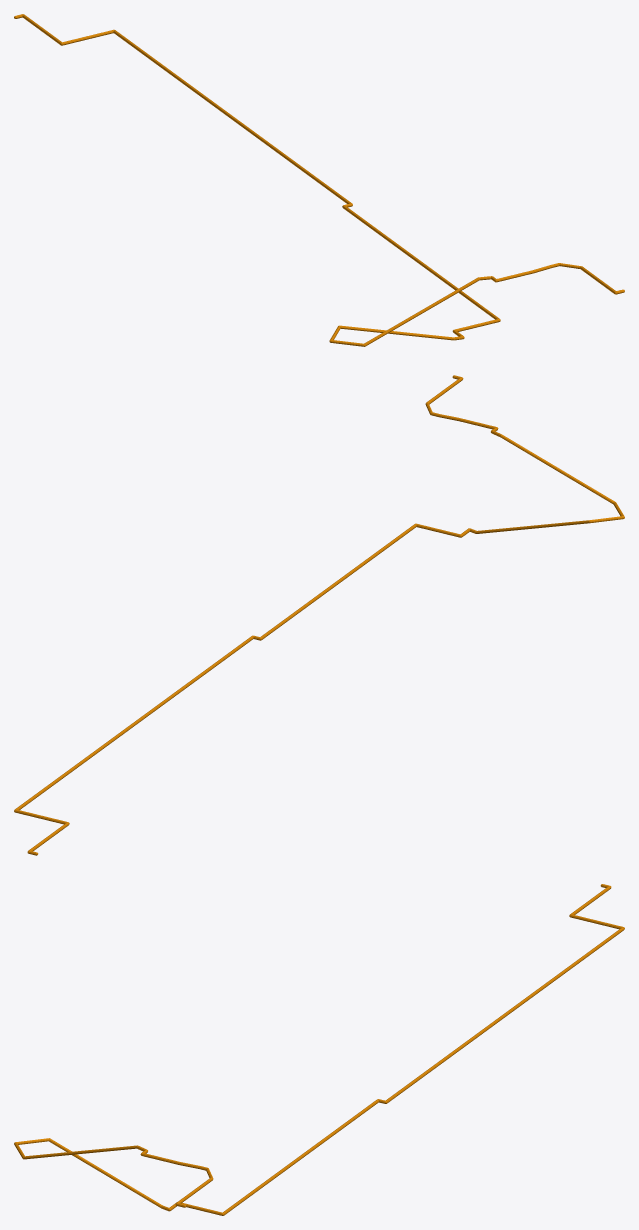
The picture shows the model from 3 angles, top to bottom: view 1: azimuth 30°, elevation 25°; view 2: azimuth 150°, elevation 25°; view 3: azimuth 330°, elevation 25°; orthographic projection.
Bounding box in the file's own units: 1563 × 520 × 5961.
